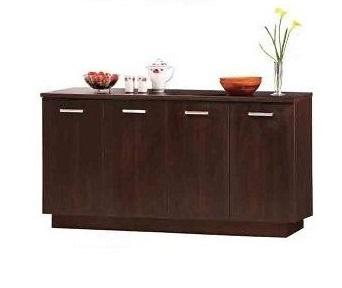cabinet_door: (228, 104, 292, 217), (106, 101, 167, 214), (172, 104, 231, 216), (46, 103, 102, 215)
handle: (121, 106, 149, 117), (183, 108, 211, 119), (245, 109, 274, 119), (59, 106, 87, 116)
